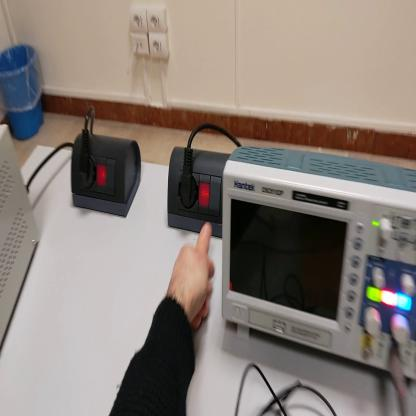hand: (167, 223, 215, 325)
oscilloscope: (218, 147, 416, 383)
power supply: (2, 121, 42, 354)
socket: (167, 145, 233, 240), (72, 134, 143, 217)
